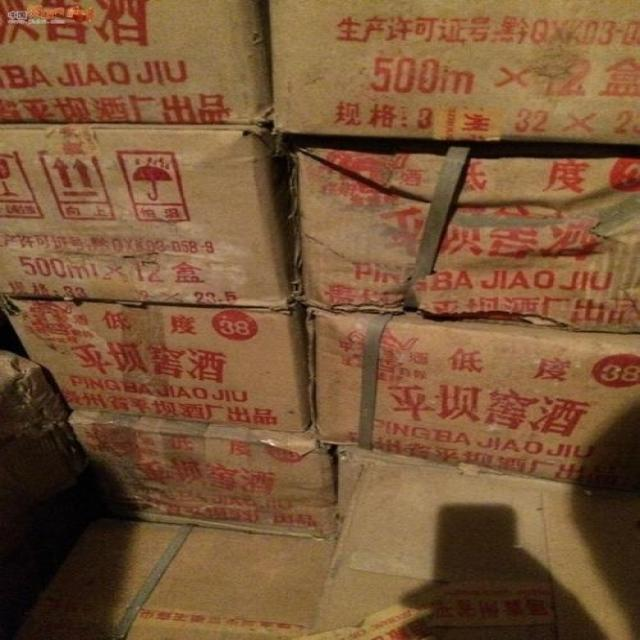box: (294, 146, 639, 332), (298, 314, 639, 493), (307, 460, 637, 639), (0, 123, 299, 309), (266, 0, 639, 145), (0, 297, 308, 433), (0, 522, 337, 637), (67, 411, 333, 538), (0, 2, 271, 123), (330, 445, 639, 542)
